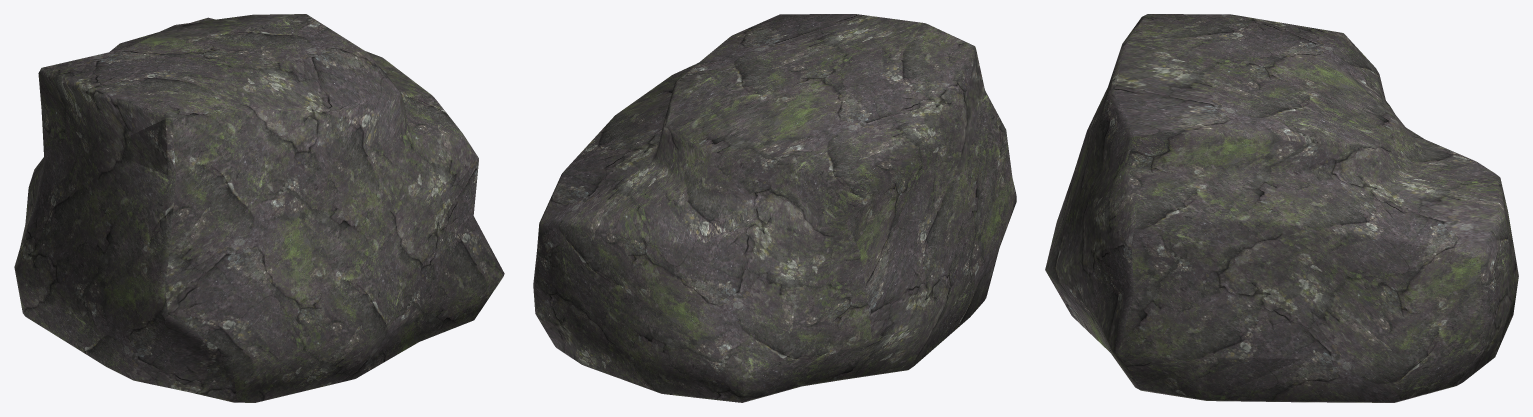
File: big_rock.fbx
3 views of the same model, side by side, from view 1: azimuth 30°, elevation 25°; view 2: azimuth 150°, elevation 25°; view 3: azimuth 270°, elevation 25° (orthographic). The views are drawn at different scales.
Parts seen in each view (by area): view 1: RockLargeBAlt; view 2: RockLargeBAlt; view 3: RockLargeBAlt.
Boxes of the visible parts, x1,y1,x2,y2 form: RockLargeBAlt: (14, 14, 504, 402); RockLargeBAlt: (533, 14, 1016, 402); RockLargeBAlt: (1045, 14, 1518, 402).
Size of the model in its own units: 12072 by 8451 by 14528.
